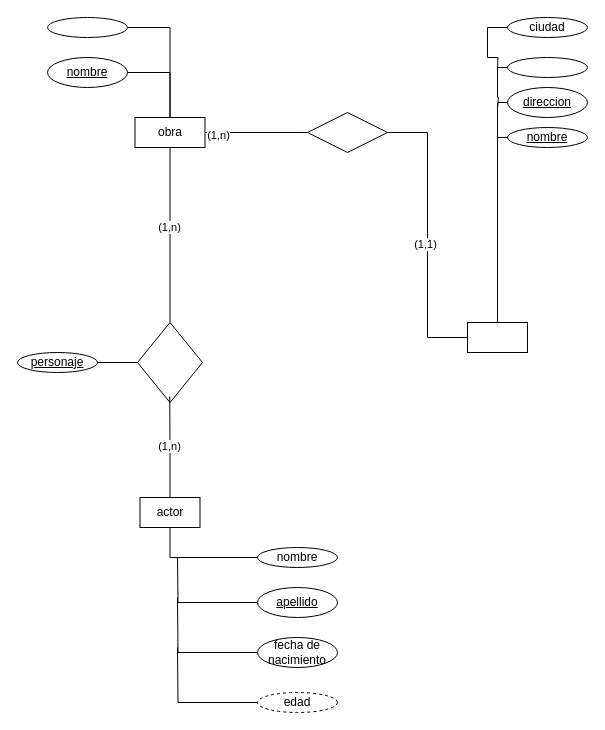
Image size: 605x730. Some labels were removed from this diagram. The shapes that lost their labels are listed below. From the top down, each one's centre as x and y in pixels, then its label:
At point 87,27: "genero".
At point 547,67: "capacidad".
At point 347,132: "se presenta".
At point 497,337: "Teatro".
At point 169,362: "actua".
